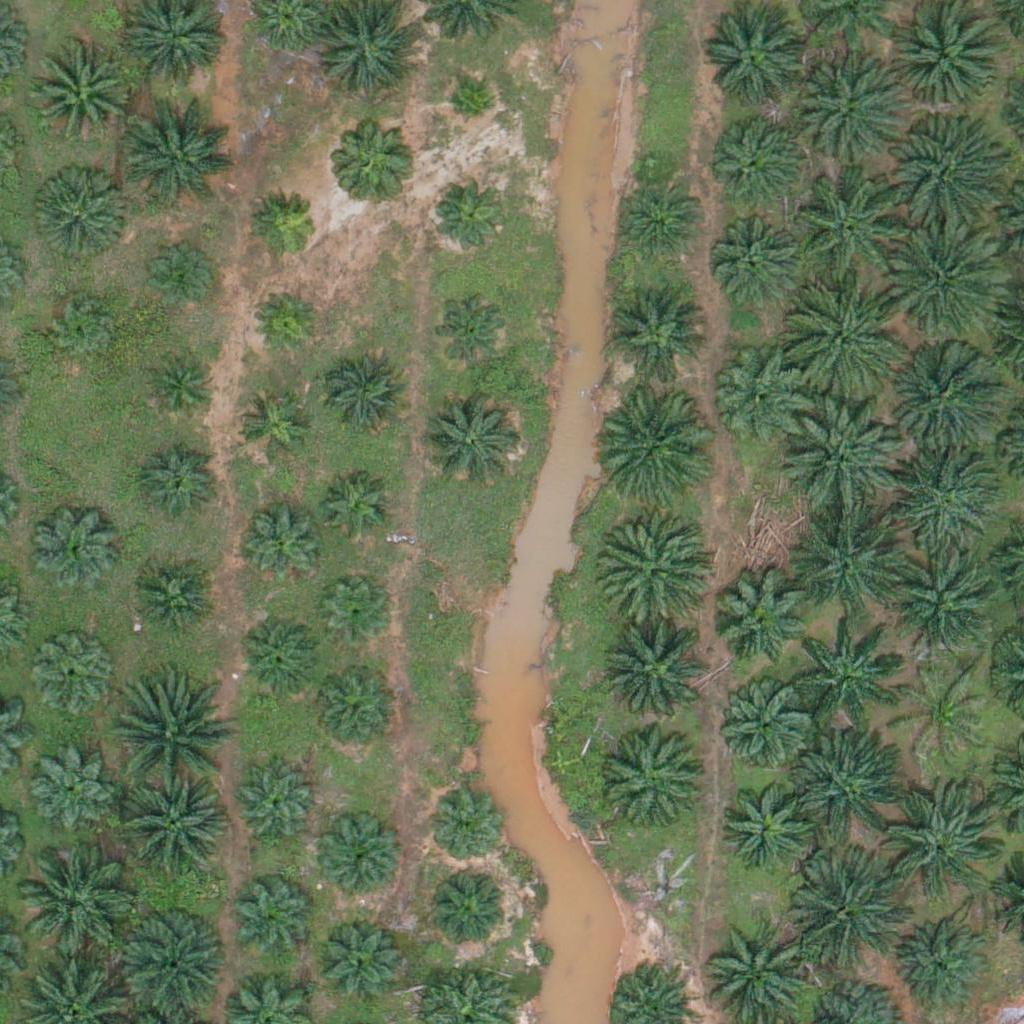Kelapa_Sawit: (792, 855, 905, 969), (599, 386, 712, 500), (110, 905, 223, 1019), (793, 729, 906, 842), (783, 403, 896, 516), (595, 510, 708, 623), (117, 682, 230, 795), (892, 224, 1005, 337), (892, 113, 1005, 226), (789, 55, 902, 168), (791, 284, 904, 397), (888, 441, 1000, 555), (889, 554, 1001, 668), (602, 619, 714, 733), (896, 338, 1008, 452), (885, 785, 997, 898), (790, 616, 902, 729), (794, 501, 906, 614), (706, 909, 818, 1022), (115, 775, 227, 888), (18, 848, 130, 961), (125, 98, 237, 211), (796, 169, 908, 282), (895, 658, 995, 759), (712, 676, 812, 777), (716, 772, 816, 873), (605, 728, 705, 829), (420, 392, 520, 493), (30, 44, 130, 145), (705, 103, 805, 204), (705, 11, 805, 112), (607, 283, 707, 384), (891, 922, 991, 1022), (709, 569, 809, 669), (31, 163, 131, 263), (712, 346, 812, 446), (708, 205, 808, 305), (237, 498, 325, 587), (429, 286, 517, 375), (135, 442, 223, 530), (123, 558, 211, 646), (307, 665, 395, 753), (230, 875, 318, 963), (29, 634, 117, 722), (329, 112, 417, 200), (323, 351, 411, 439), (236, 613, 323, 701), (229, 761, 316, 849), (318, 818, 405, 906), (425, 864, 512, 952), (314, 913, 401, 1001), (31, 505, 118, 593), (28, 747, 115, 835), (427, 168, 514, 256), (614, 171, 701, 259), (144, 239, 219, 315), (319, 578, 394, 654), (428, 791, 503, 867), (142, 351, 217, 427), (249, 189, 324, 264), (234, 389, 309, 464), (48, 294, 123, 369), (322, 473, 397, 548), (249, 285, 324, 360), (446, 83, 496, 133)
